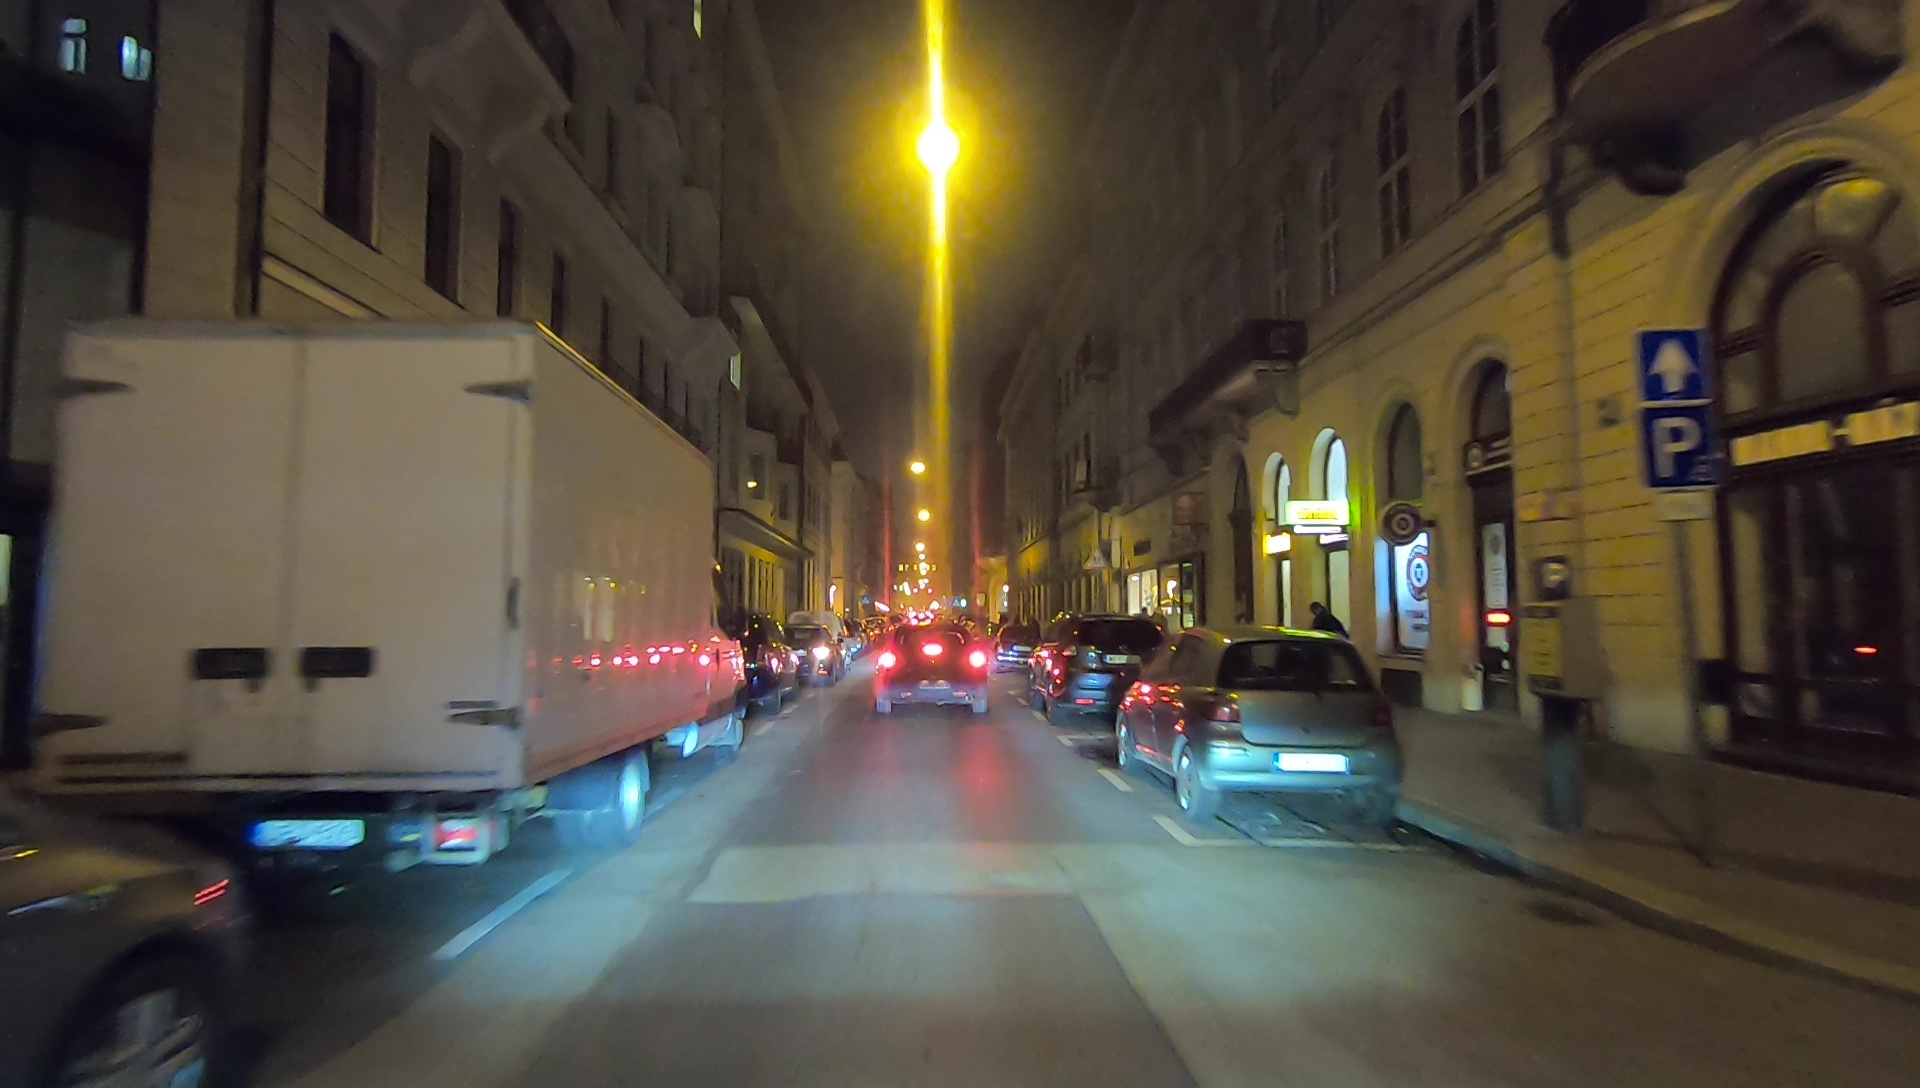person: (1299, 595, 1354, 689)
